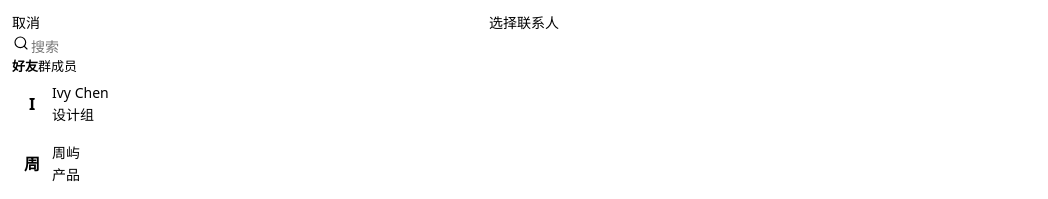
FlareContactPicker › searches names and subtitles, and says when nothing matches
Type "设计" into the search field with placeholder "搜索" at (532, 47), box x1=29 y1=36 x2=1035 y2=57
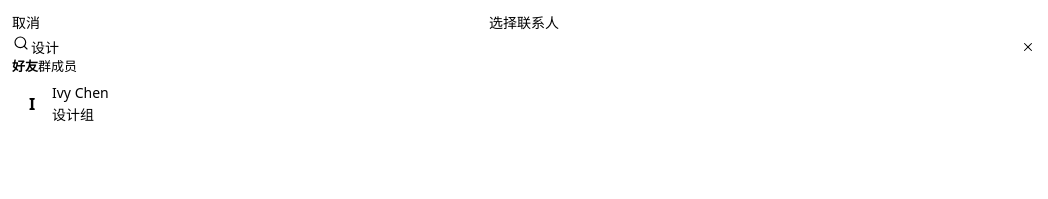
Replace the text in the search field named "搜索" with "ivy" at (525, 47), box x1=29 y1=36 x2=1021 y2=57
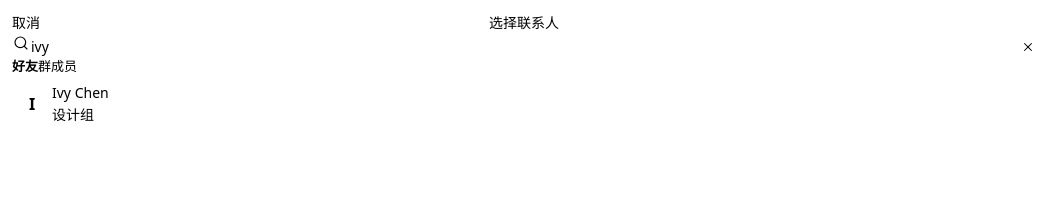
Replace the text in the search field named "搜索" with "没有这个人" at (525, 47), box x1=29 y1=36 x2=1021 y2=57
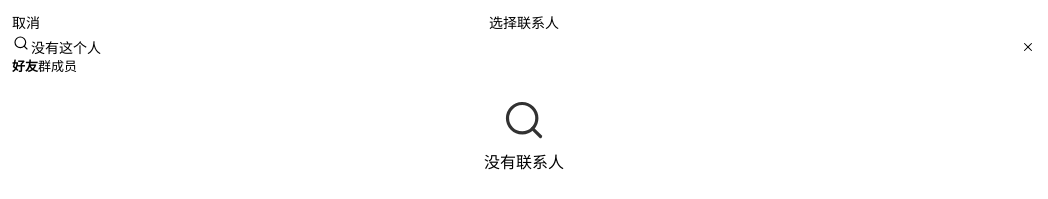
Now the text "没有联系人" is shown, box x1=484 y1=150 x2=564 y2=176
